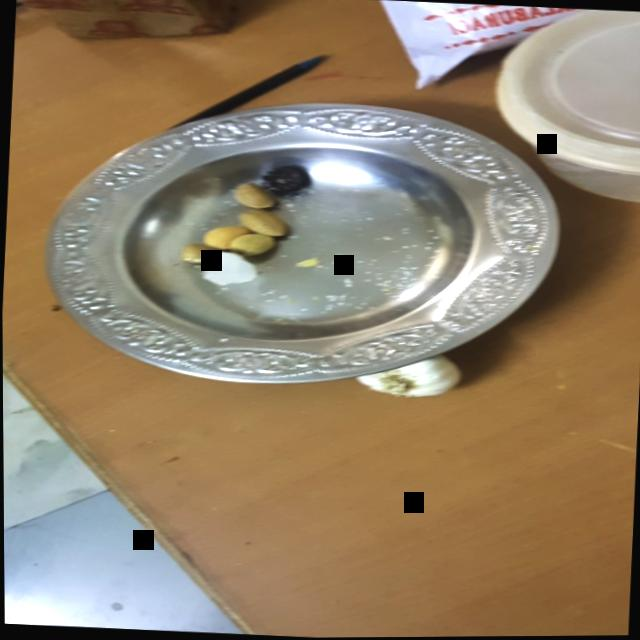garlic: (346, 343, 470, 404)
